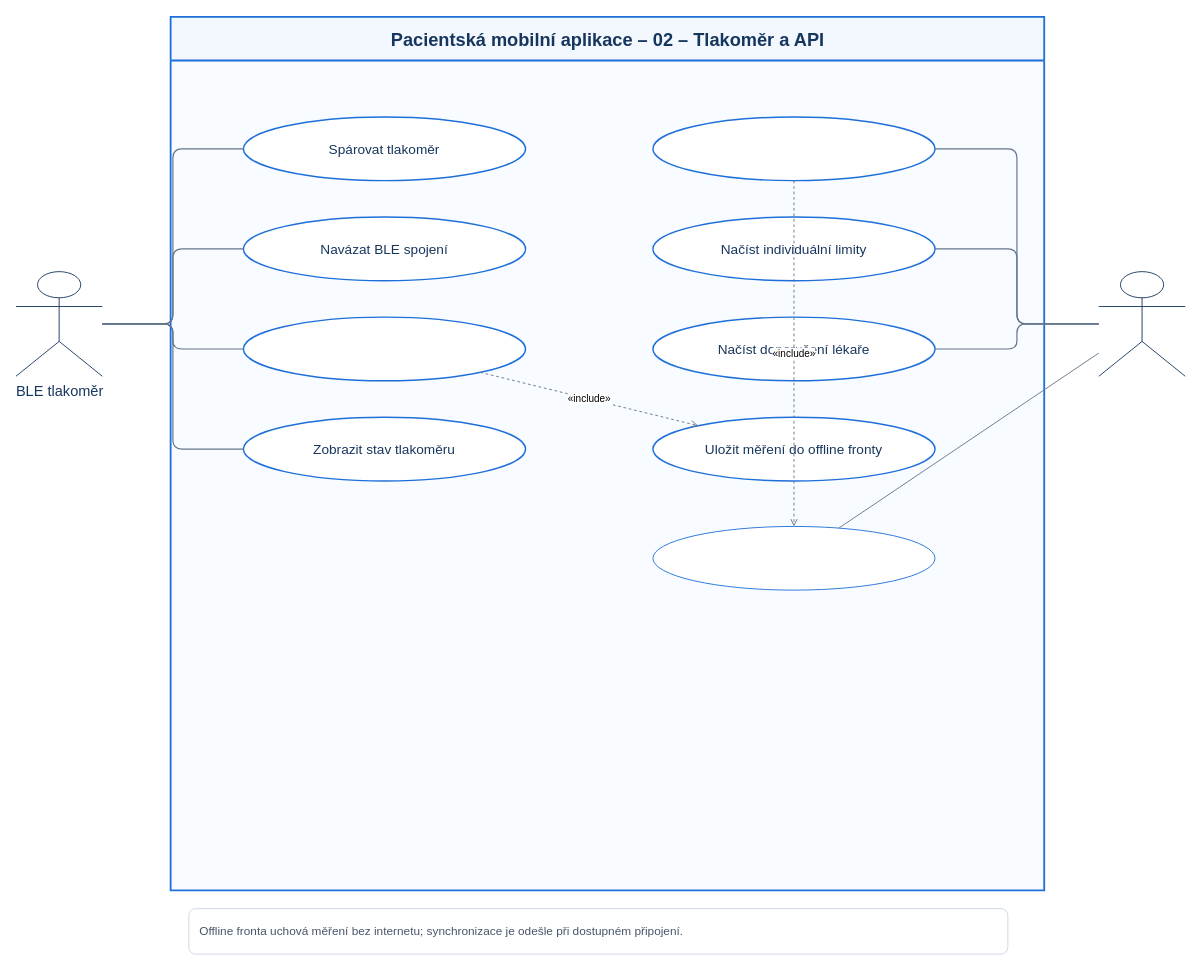
The diagram is 1201 pixels wide and 970 high, and some of its shapes have lost their labels. Each missing label, with the centre of its shape:
"Ověřit relaci" belongs at [793,558].
"Převzít měření z tlakoměru" belongs at [384,348].
"Synchronizovat záznamy" belongs at [793,148].
"WEB API" belongs at [1141,323].
